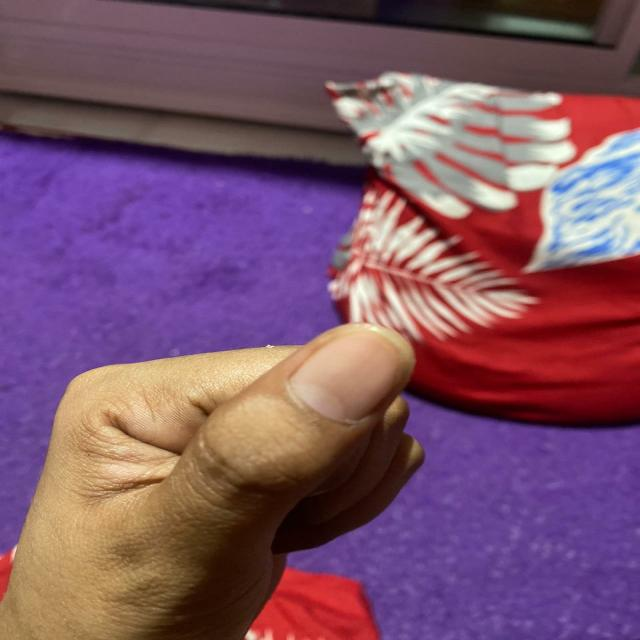sehat: (290, 332, 398, 421)
